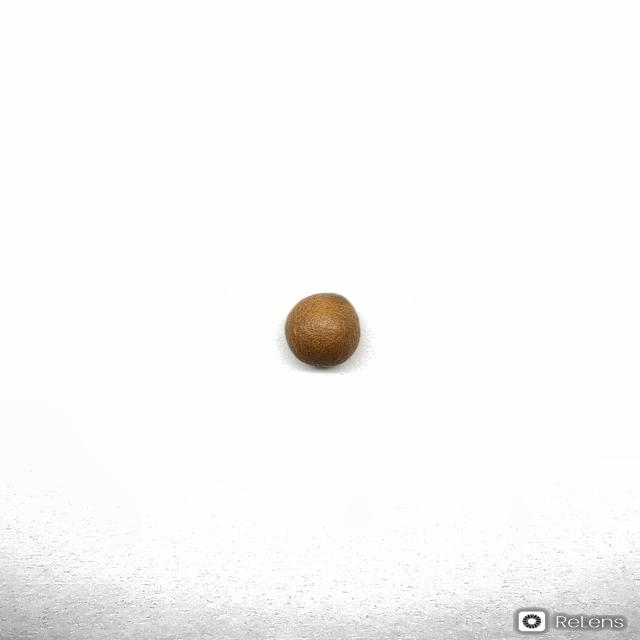Good bean: (284, 291, 361, 367)
